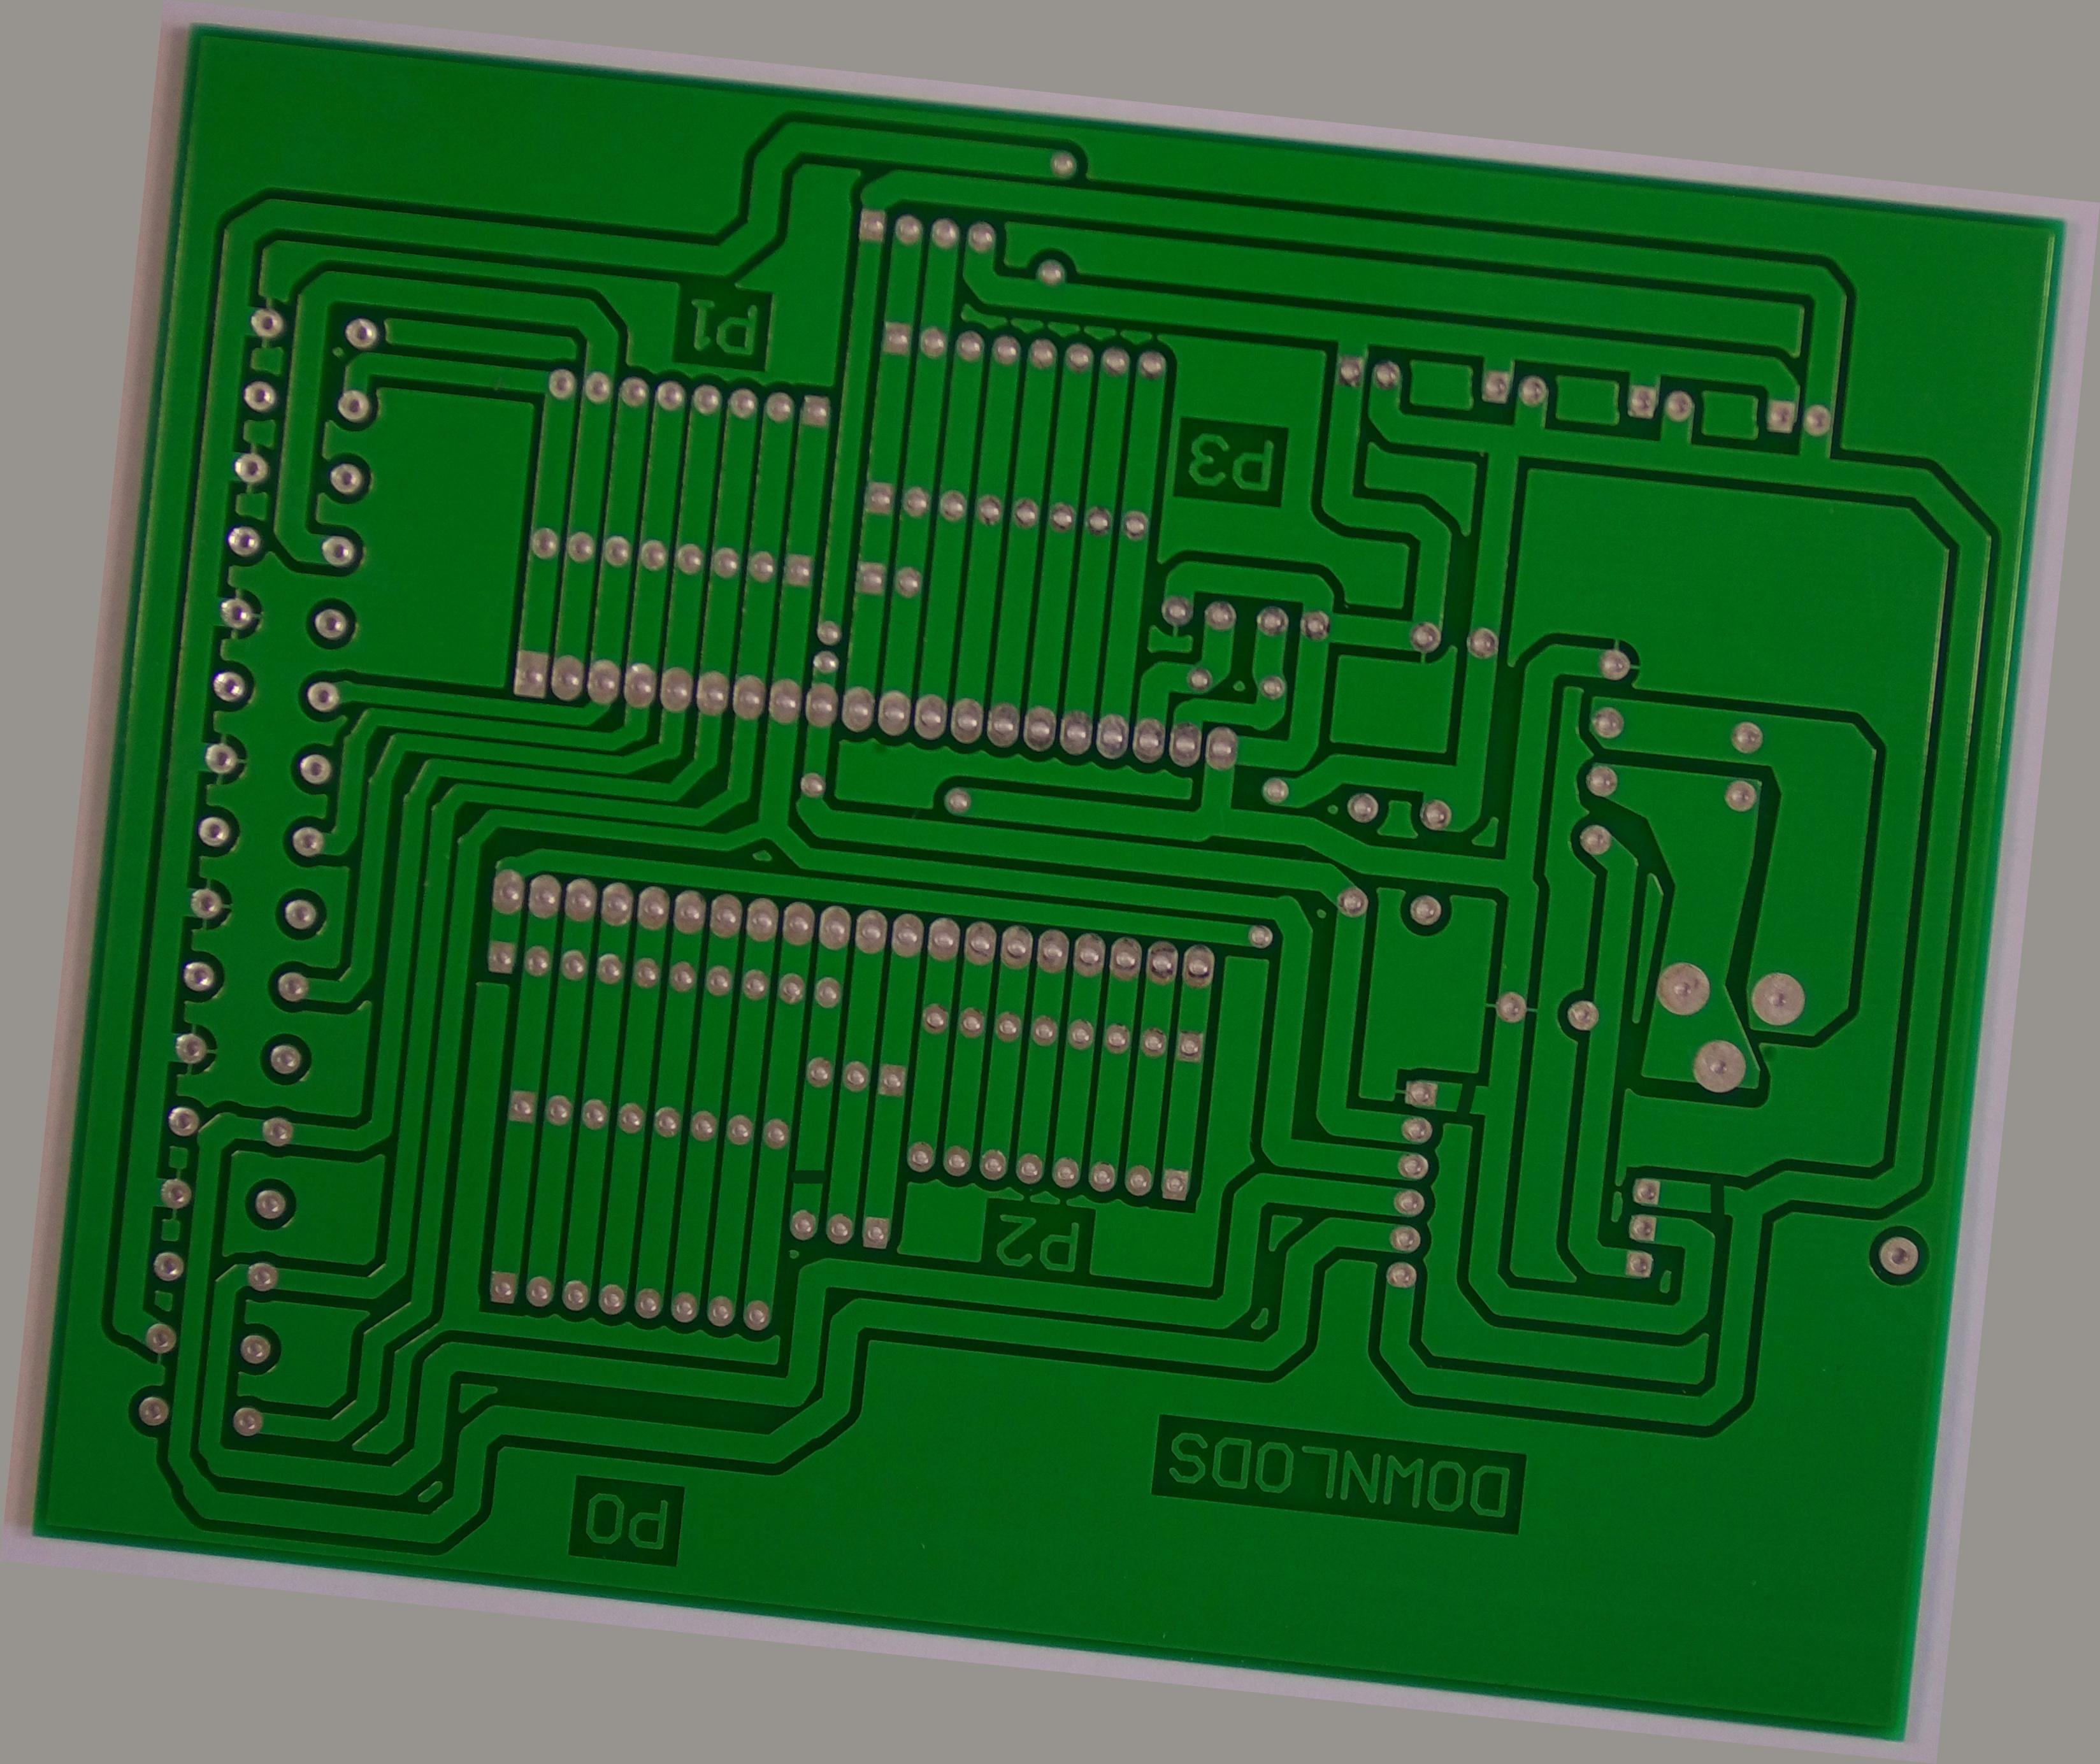open_circuit: (1773, 1134, 1825, 1186), (1498, 1048, 1535, 1099), (803, 1221, 852, 1255)
